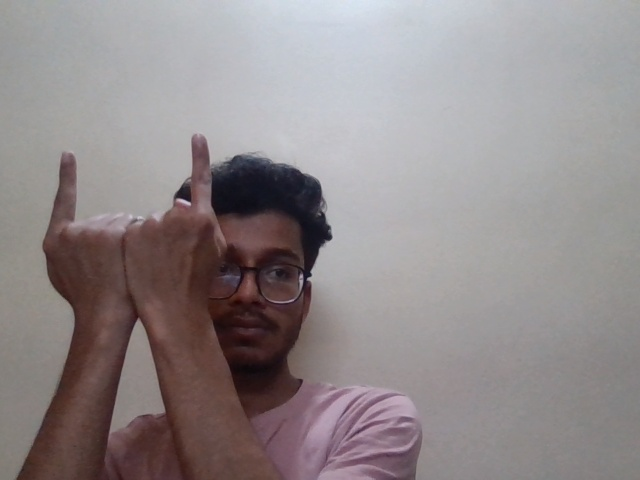when: (26, 117, 242, 311)
